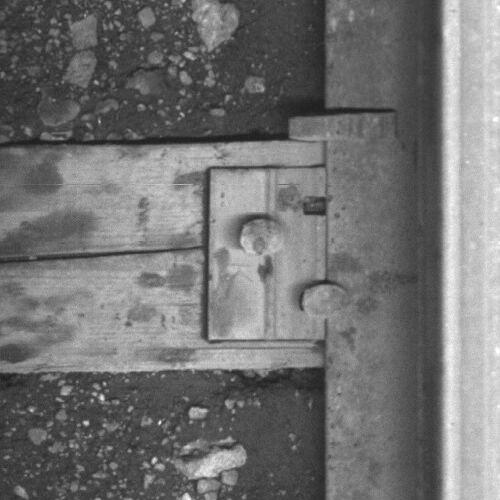crutch: (287, 110, 397, 143)
do: (206, 165, 350, 340)
hole_do: (293, 184, 338, 226)
rail: (441, 1, 500, 500)
tie_wood: (1, 142, 327, 367)
wood_crack: (1, 242, 206, 270)
